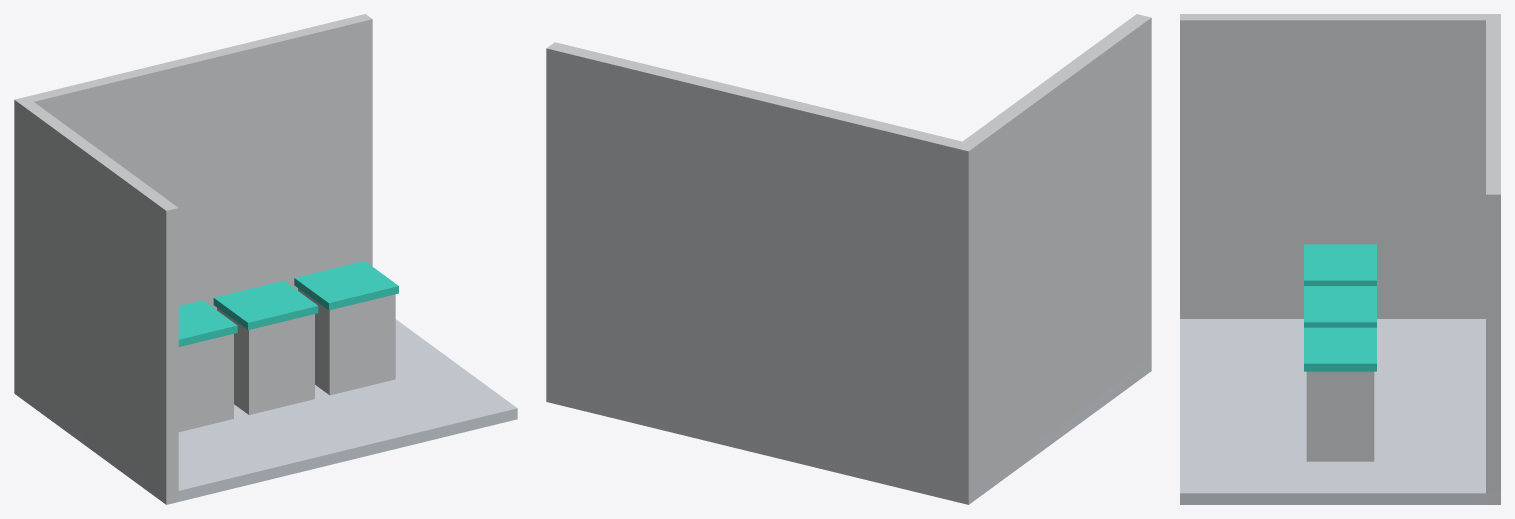
3 views of the same model, side by side, from view 1: azimuth 30°, elevation 25°; view 2: azimuth 150°, elevation 25°; view 3: azimuth 270°, elevation 25° (orthographic). The views are drawn at different scales.
Parts seen in each view (by area): view 1: Exhibition Booth Concept; view 2: Exhibition Booth Concept; view 3: Exhibition Booth Concept.
Part boxes in pixels (box(x1,y1,x2,y2)): Exhibition Booth Concept: box(14, 14, 517, 504); Exhibition Booth Concept: box(546, 14, 1151, 504); Exhibition Booth Concept: box(1180, 14, 1500, 504).
Size of the model in its own units: 4 by 3.2 by 3.
